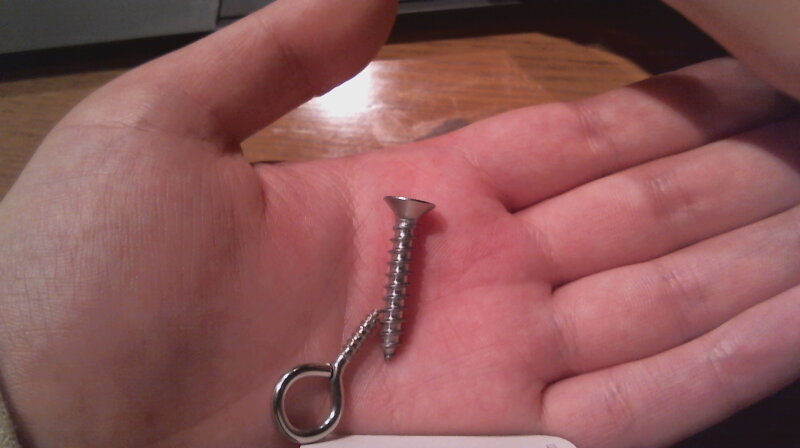O001: (265, 307, 373, 445)
S001: (374, 189, 445, 360)
